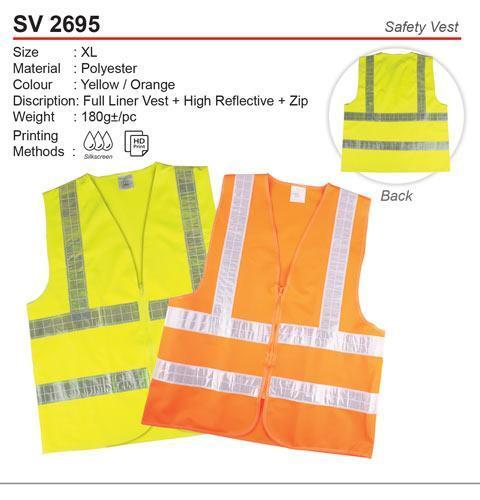vest: (140, 169, 385, 462), (24, 163, 218, 451), (339, 50, 453, 173)
